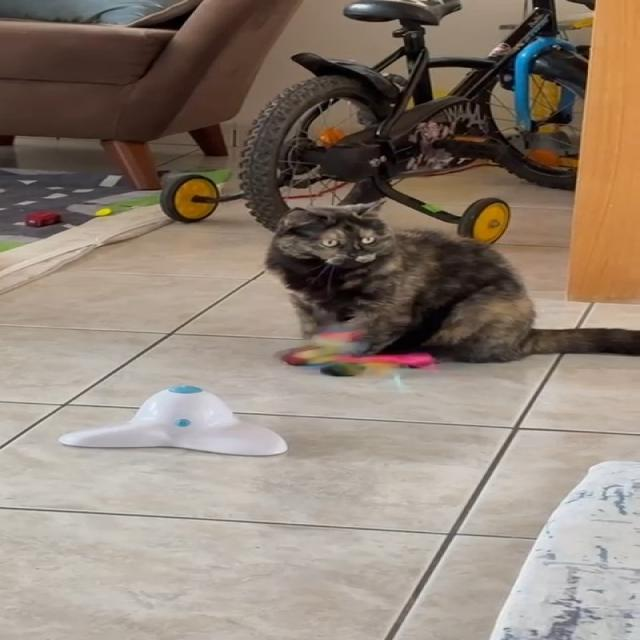authorized: (262, 198, 638, 364)
